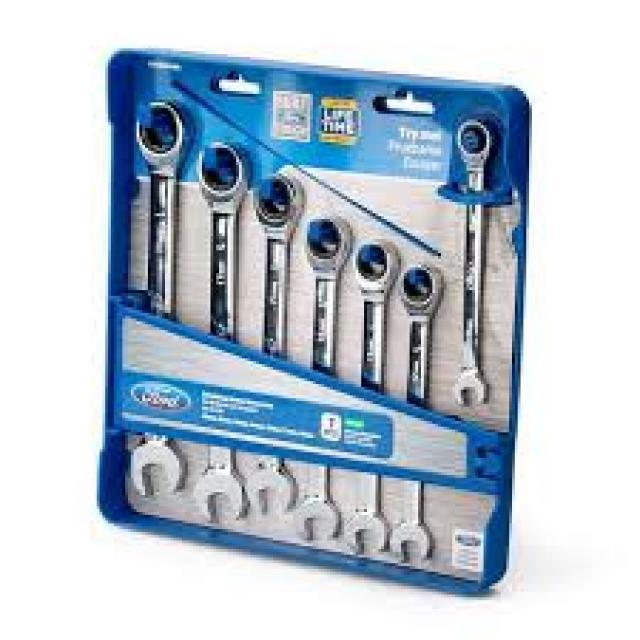wrench: (127, 98, 190, 501), (192, 137, 247, 528), (293, 211, 348, 551), (247, 172, 300, 522), (390, 260, 447, 566), (346, 233, 397, 565), (450, 116, 494, 412)
